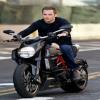motorcycles: (6, 39, 92, 98)
